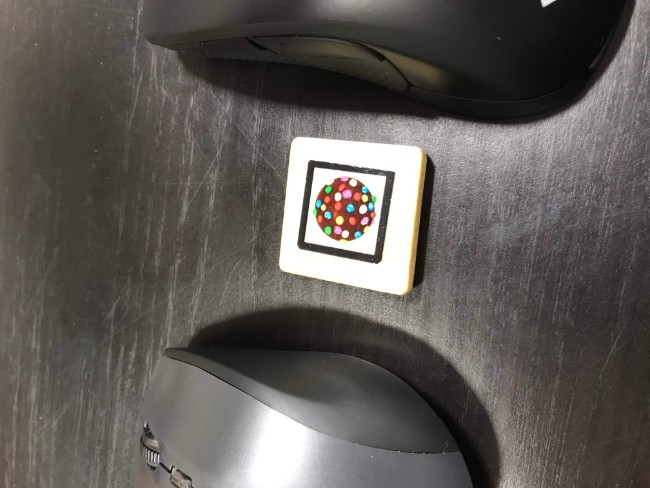cookie: (292, 156, 400, 265)
